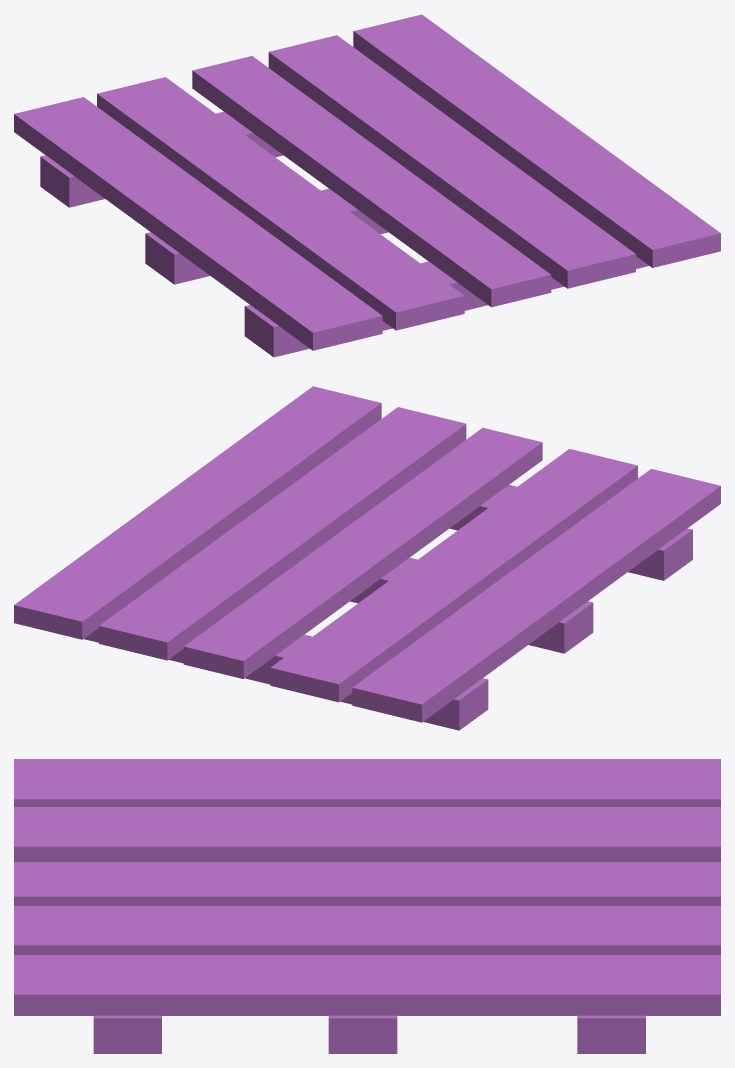
Rendered from Pallet.fbx.
3 views of the same model, one above another, from view 1: azimuth 30°, elevation 25°; view 2: azimuth 150°, elevation 25°; view 3: azimuth 270°, elevation 25° (orthographic). The views are drawn at different scales.
Visible parts, largest first — view 1: Pallet; view 2: Pallet; view 3: Pallet.
Boxes of the visible parts, <box> form: Pallet: <box>14,14,720,357</box>; Pallet: <box>14,386,720,730</box>; Pallet: <box>14,759,720,1053</box>.
Size of the model in its own units: 109 by 11.95 by 135.
